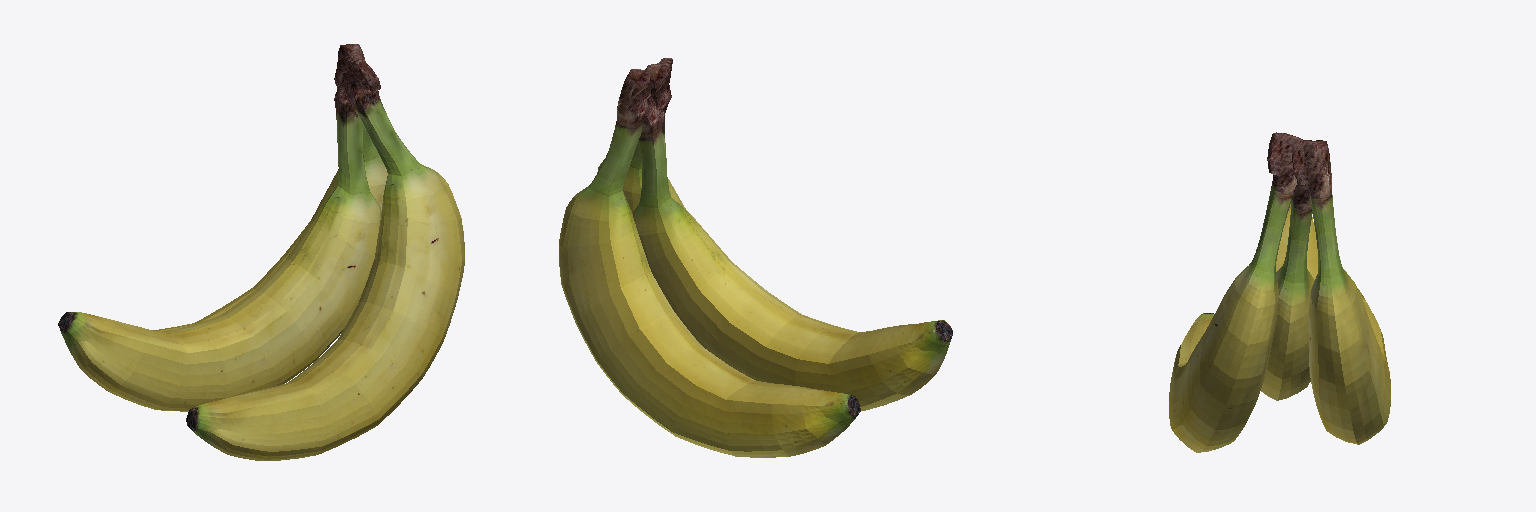
3 views of the same model, side by side, from view 1: azimuth 30°, elevation 25°; view 2: azimuth 150°, elevation 25°; view 3: azimuth 270°, elevation 25° (orthographic).
Visible parts, largest first — view 1: Cube.000, Cube.001, Cube.002; view 2: Cube.002, Cube.001, Cube.000; view 3: Cube.000, Cube.002, Cube.001.
Boxes of the visible parts, box(x1,y1,x2,y2) form: Cube.000: box(186, 52, 464, 460); Cube.001: box(58, 78, 381, 411); Cube.002: box(154, 44, 387, 331); Cube.002: box(559, 69, 860, 457); Cube.001: box(633, 93, 952, 410); Cube.000: box(597, 58, 685, 213); Cube.000: box(1169, 132, 1302, 452); Cube.002: box(1291, 140, 1390, 444); Cube.001: box(1256, 167, 1317, 400).
Size of the model in its own units: 15.39 by 13.35 by 7.84.
3 materials, 1 textured.